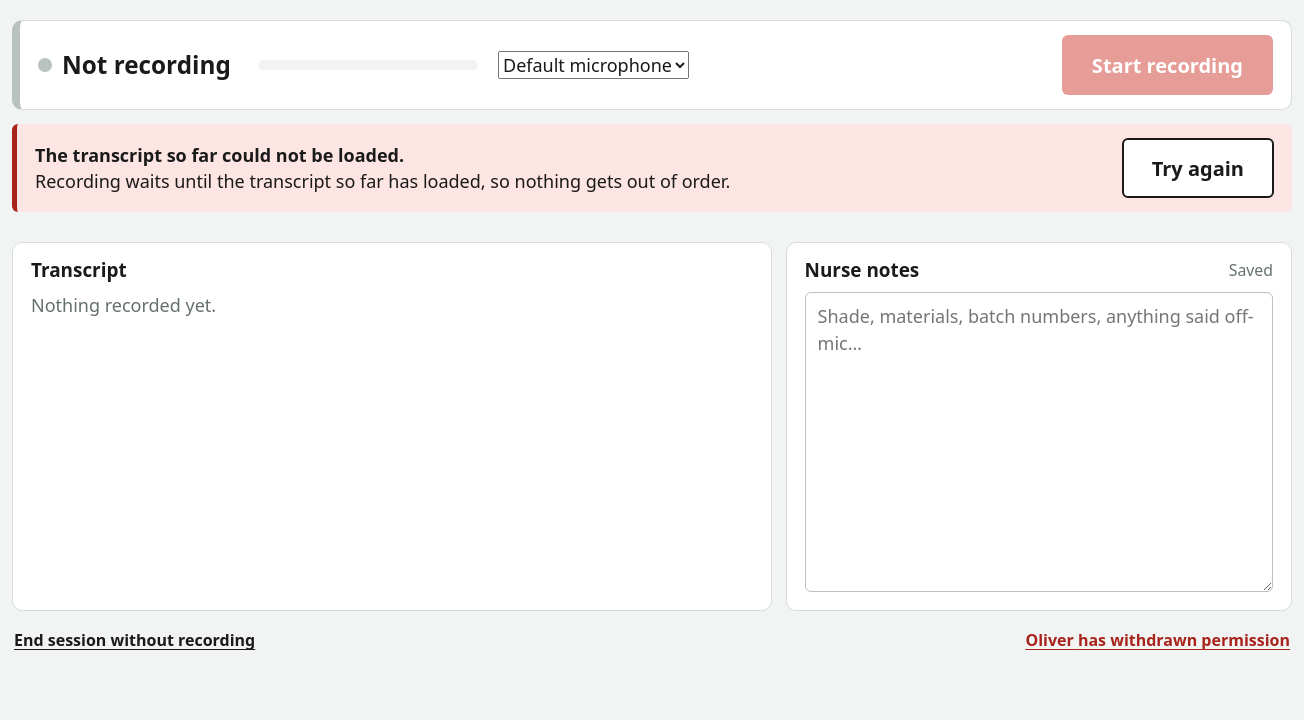
Test case: scribe workspace › waits for the saved transcript before offering to record, and offers a retry if it fails
Expected: the text "The transcript so far could not be loaded." is shown, [35,143,404,167]
Expected: the button "Start recording" is disabled, [1062,35,1273,95]
Click the button "Try again" at (1198, 168), box [1122,138,1274,198]
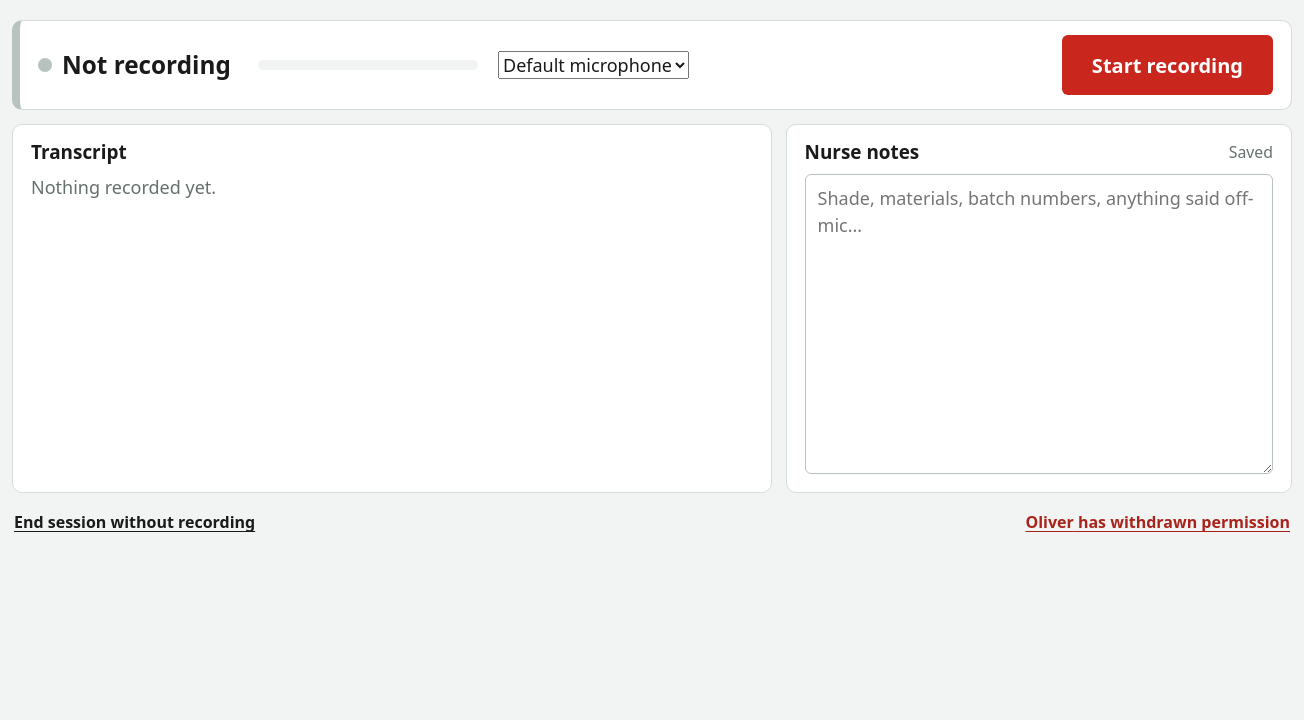
Now the button "Start recording" is enabled, box [1062,35,1273,95]
